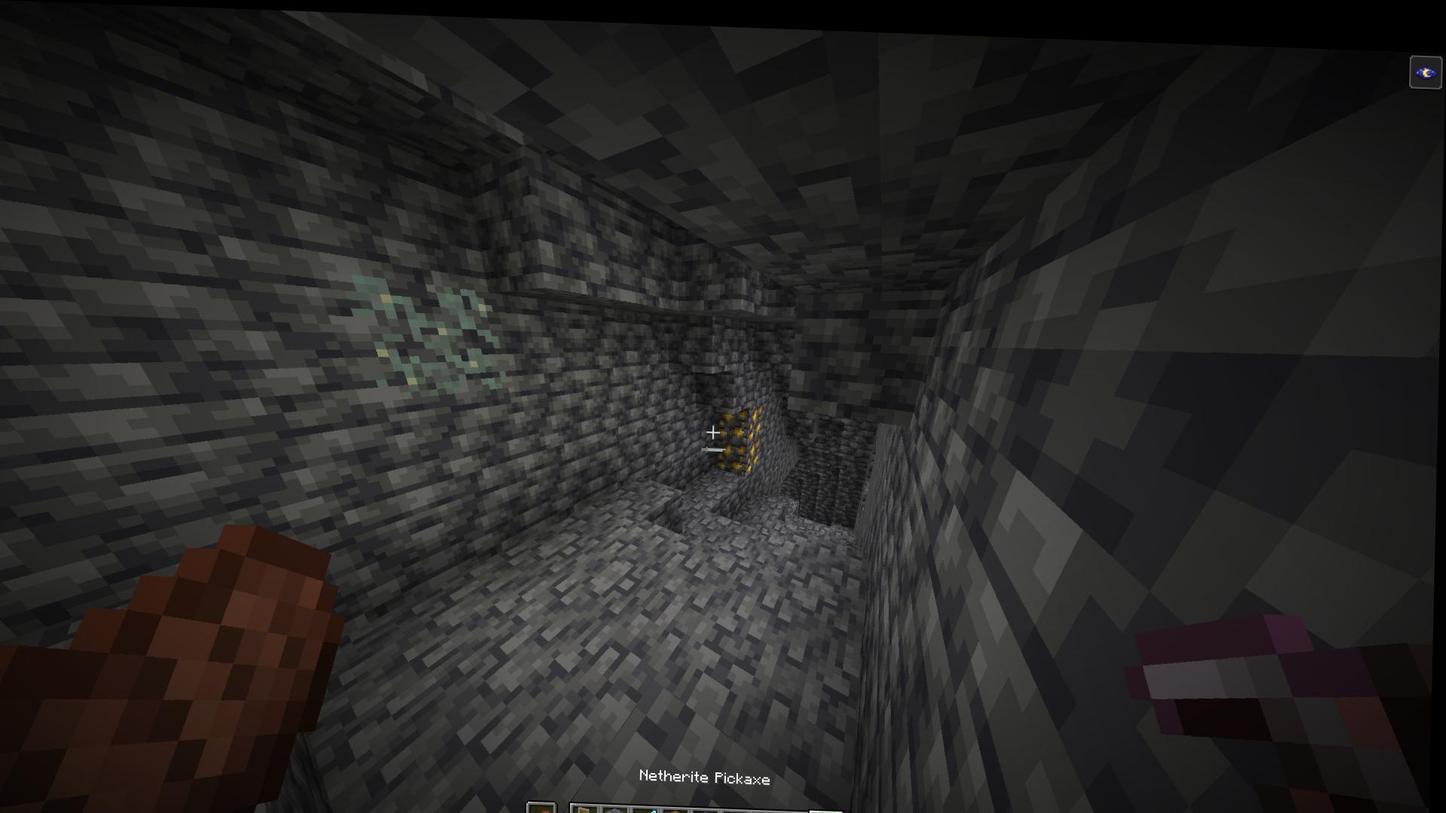gold ore: (716, 434, 752, 471), (720, 401, 752, 436), (752, 431, 765, 467), (751, 400, 765, 432)
